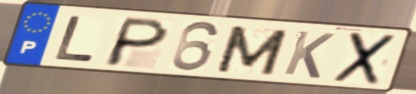6: (170, 20, 221, 74)
K: (280, 28, 338, 80)
L: (52, 14, 99, 64)
M: (212, 23, 292, 77)
P: (100, 16, 172, 69)
X: (330, 31, 400, 87)
